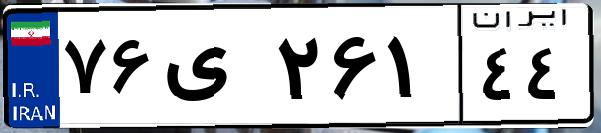1: (385, 28, 445, 110)
2: (270, 28, 330, 110)
4: (475, 38, 525, 113), (525, 38, 570, 115)
6: (330, 28, 385, 110), (110, 28, 158, 98)
7: (57, 26, 110, 100)
ی: (158, 20, 270, 120)
